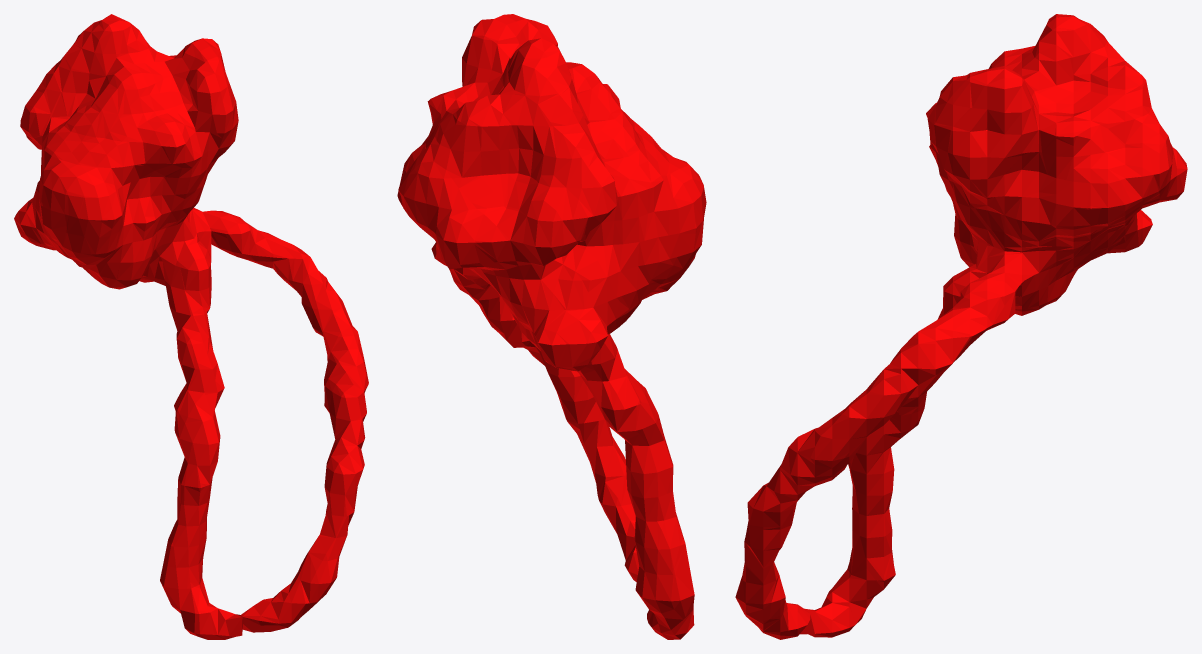
Rendered from pitA_coarse.dae.
The picture shows the model from 3 angles, left to right: view 1: azimuth 30°, elevation 25°; view 2: azimuth 150°, elevation 25°; view 3: azimuth 270°, elevation 25°; orthographic projection. The views are drawn at different scales.
Visible parts, largest first — view 1: pitA; view 2: pitA; view 3: pitA.
Boxes of the visible parts, x1,y1,x2,y2 form: pitA: (14, 14, 368, 639); pitA: (397, 14, 706, 639); pitA: (735, 14, 1187, 639).
Size of the model in its own units: 71.47 by 149 by 98.1.
